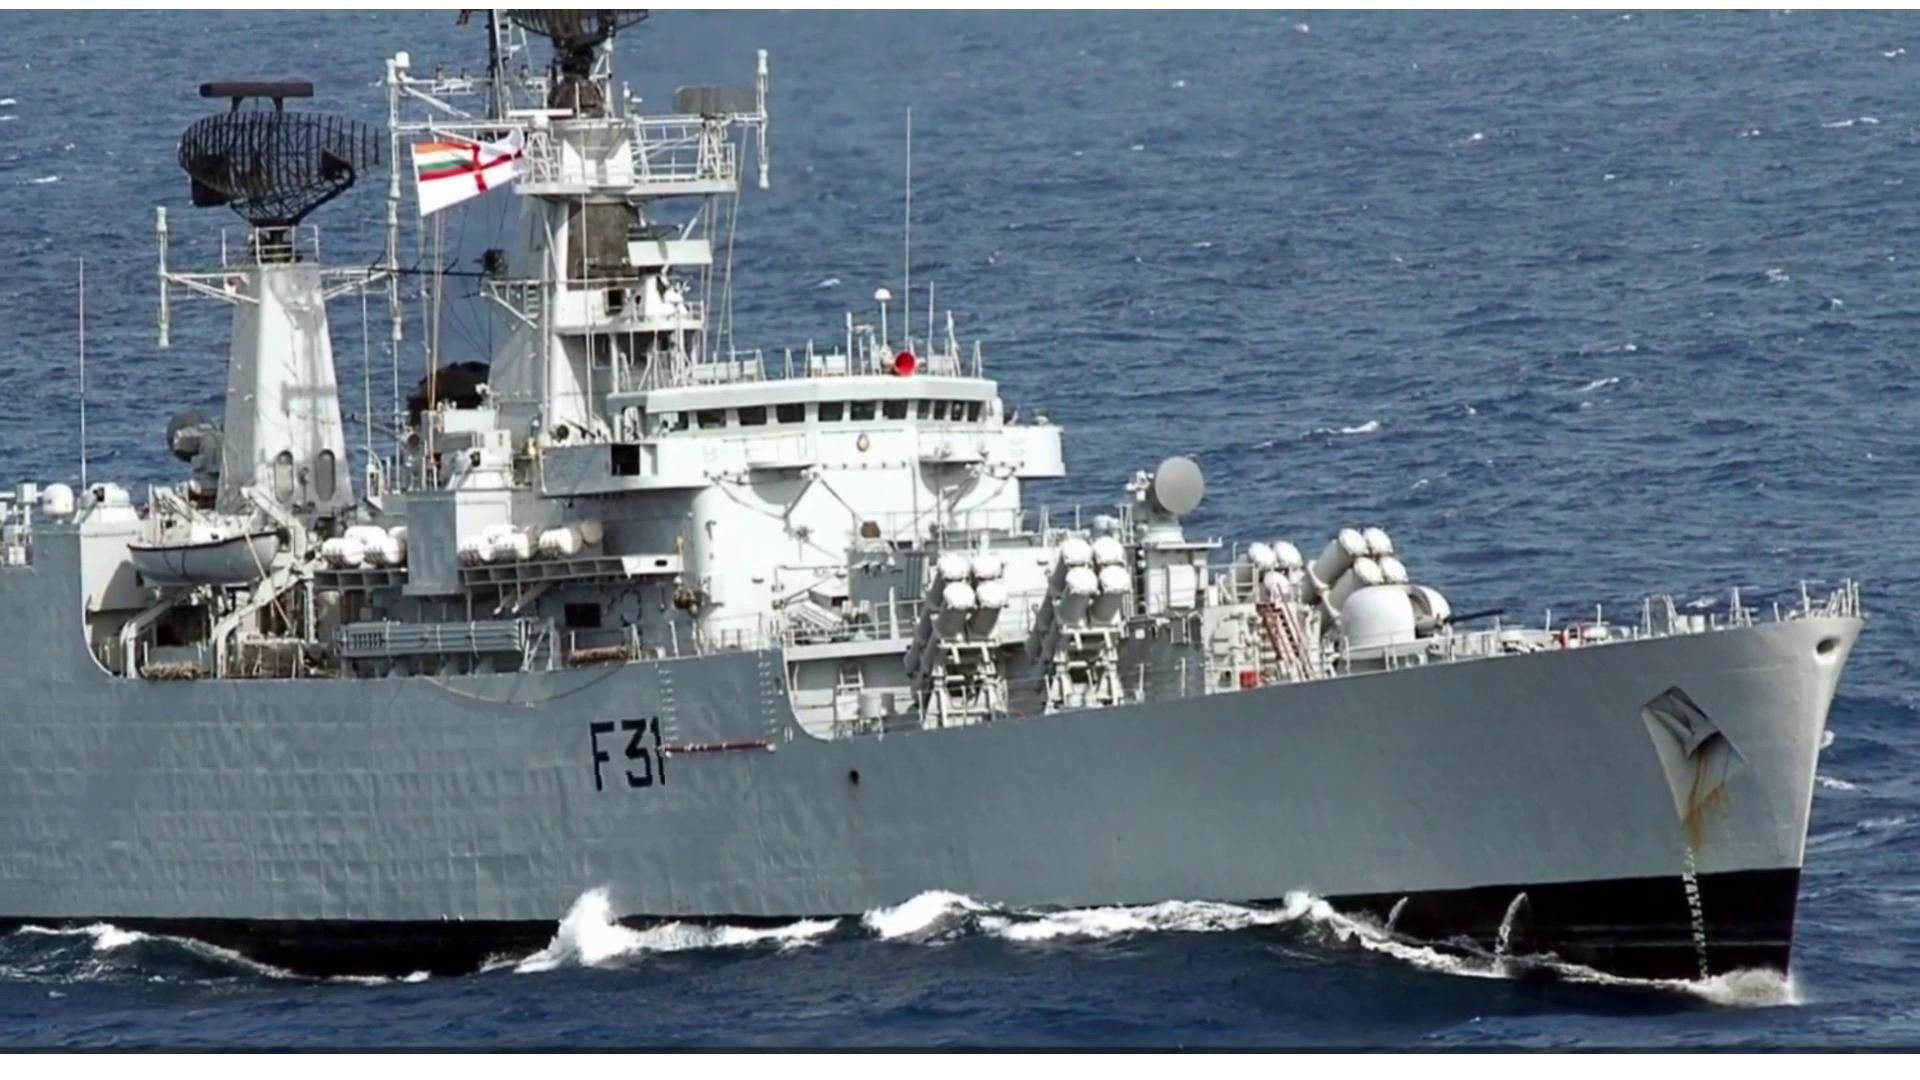OCR: (567, 708, 665, 807)
